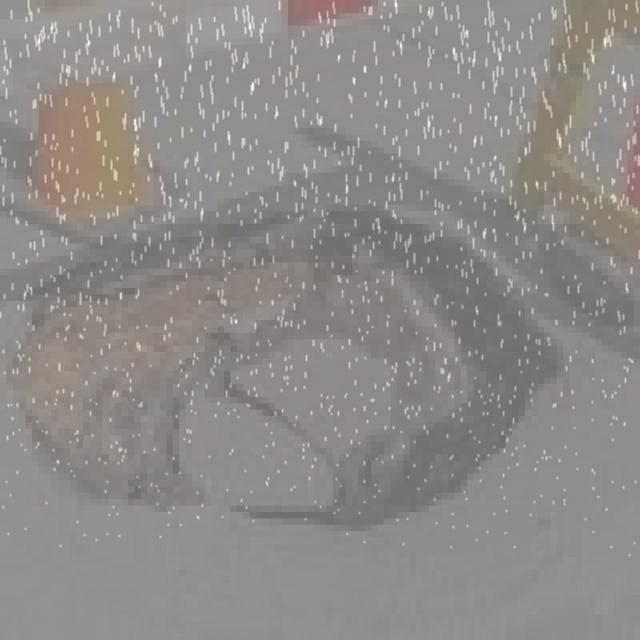Pothole: (0, 116, 554, 521)
